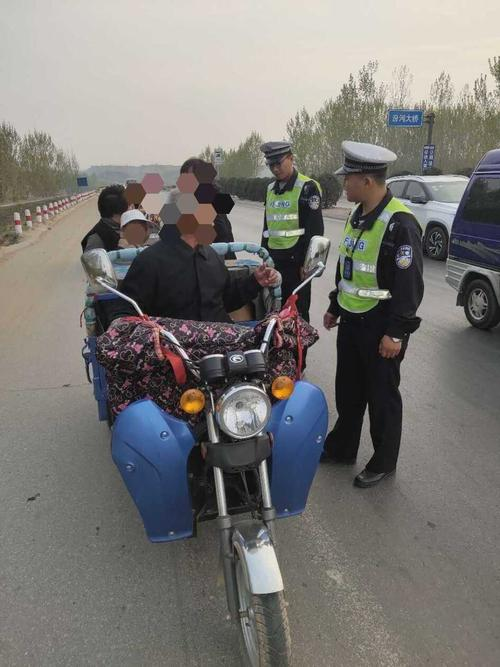driver: (142, 186, 241, 355)
overloading: (75, 171, 322, 656)
passenger: (179, 155, 224, 248), (94, 168, 137, 238)
